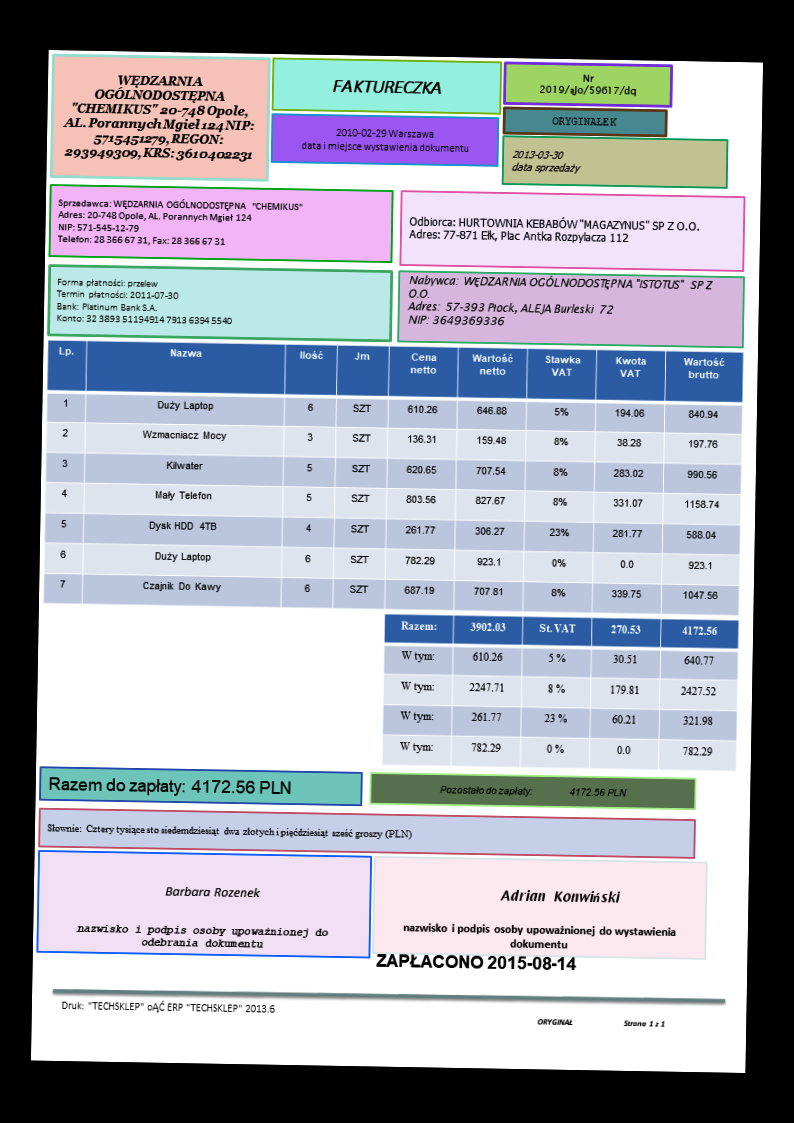Table: (41, 339, 745, 618), (380, 612, 741, 773)
TextBox: (405, 270, 715, 333), (60, 72, 259, 165), (54, 195, 306, 252), (406, 212, 702, 249), (400, 918, 681, 952), (55, 274, 233, 327), (75, 918, 331, 952), (45, 820, 414, 843), (47, 772, 293, 800), (298, 123, 471, 156), (373, 949, 577, 974), (58, 995, 280, 1016), (436, 781, 628, 802), (537, 70, 640, 99), (509, 144, 583, 177), (497, 887, 622, 906), (330, 75, 443, 96), (536, 1014, 668, 1030), (162, 883, 264, 901), (549, 112, 620, 128)
